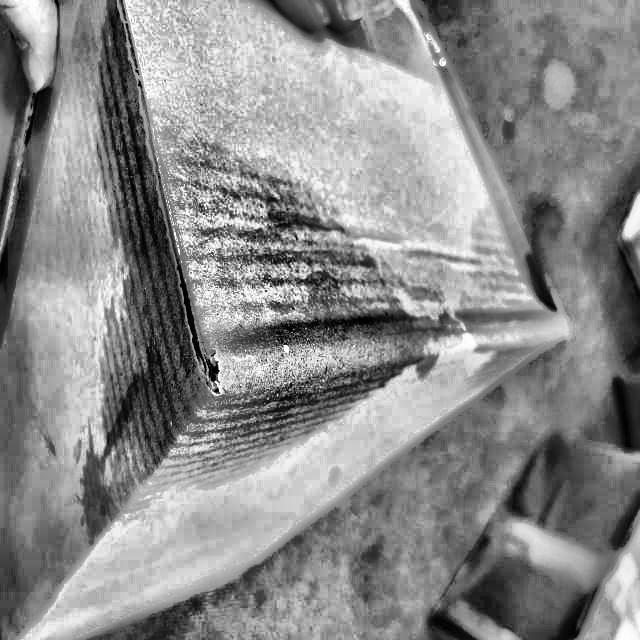box: (0, 0, 580, 640)
wet: (82, 3, 425, 509)
